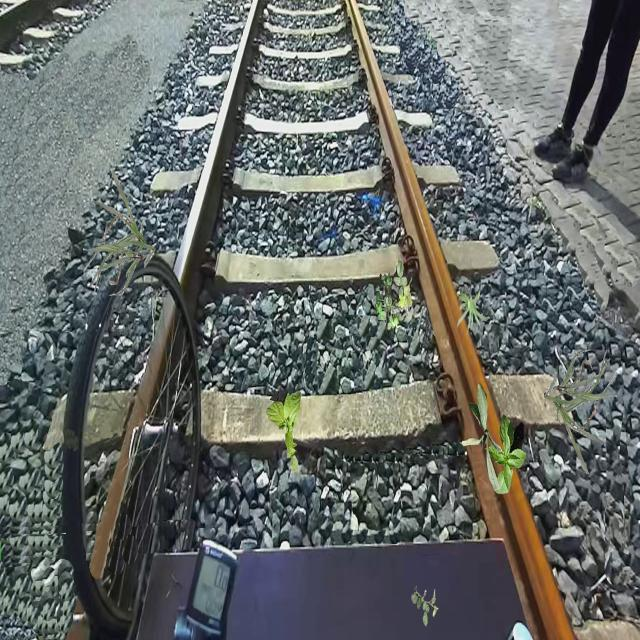Plant: (83, 171, 156, 296), (544, 350, 617, 474), (462, 383, 502, 493), (485, 414, 527, 494), (266, 389, 302, 472), (375, 260, 412, 334), (457, 289, 490, 335), (411, 586, 438, 627)
